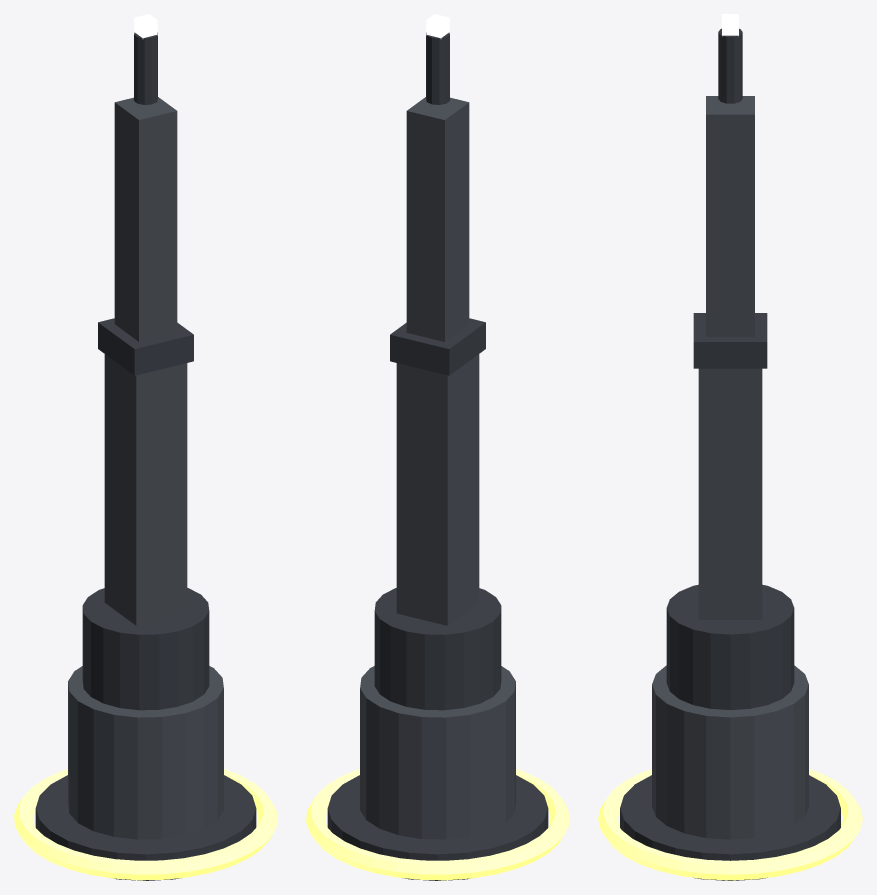
Rendered from weld_robot.glb.
The picture shows the model from 3 angles, left to right: view 1: azimuth 30°, elevation 25°; view 2: azimuth 150°, elevation 25°; view 3: azimuth 270°, elevation 25°; orthographic projection.
Parts seen in each view (by area): view 1: part_arm1, part_pedestal, part_arm2, part_yawhouse, part_baseplate, part_basering, part_arm1_cap, part_torch; view 2: part_arm1, part_pedestal, part_arm2, part_yawhouse, part_baseplate, part_basering, part_arm1_cap, part_torch; view 3: part_pedestal, part_arm1, part_yawhouse, part_arm2, part_baseplate, part_basering, part_arm1_cap, part_torch.
Part boxes in pixels (x1=…): part_arm1: x1=104, y1=354, x2=187, y2=625; part_pedestal: x1=68, y1=666, x2=223, y2=839; part_arm2: x1=114, y1=97, x2=177, y2=341; part_yawhouse: x1=82, y1=588, x2=209, y2=710; part_baseplate: x1=35, y1=775, x2=256, y2=880; part_basering: x1=14, y1=769, x2=277, y2=880; part_arm1_cap: x1=98, y1=318, x2=193, y2=375; part_torch: x1=134, y1=32, x2=157, y2=104; part_arm1: x1=396, y1=354, x2=479, y2=625; part_pedestal: x1=360, y1=666, x2=515, y2=839; part_arm2: x1=406, y1=97, x2=469, y2=341; part_yawhouse: x1=374, y1=588, x2=501, y2=710; part_baseplate: x1=327, y1=775, x2=548, y2=880; part_basering: x1=306, y1=769, x2=569, y2=880; part_arm1_cap: x1=390, y1=318, x2=485, y2=375; part_torch: x1=426, y1=32, x2=449, y2=104; part_pedestal: x1=652, y1=665, x2=808, y2=839; part_arm1: x1=698, y1=368, x2=762, y2=619; part_yawhouse: x1=666, y1=584, x2=794, y2=709; part_arm2: x1=706, y1=96, x2=754, y2=336; part_baseplate: x1=620, y1=775, x2=840, y2=880; part_basering: x1=598, y1=769, x2=862, y2=880; part_arm1_cap: x1=693, y1=313, x2=767, y2=368; part_torch: x1=718, y1=28, x2=742, y2=103.
Bounding box in the file's own units: 1.08 × 3.67 × 1.08.
